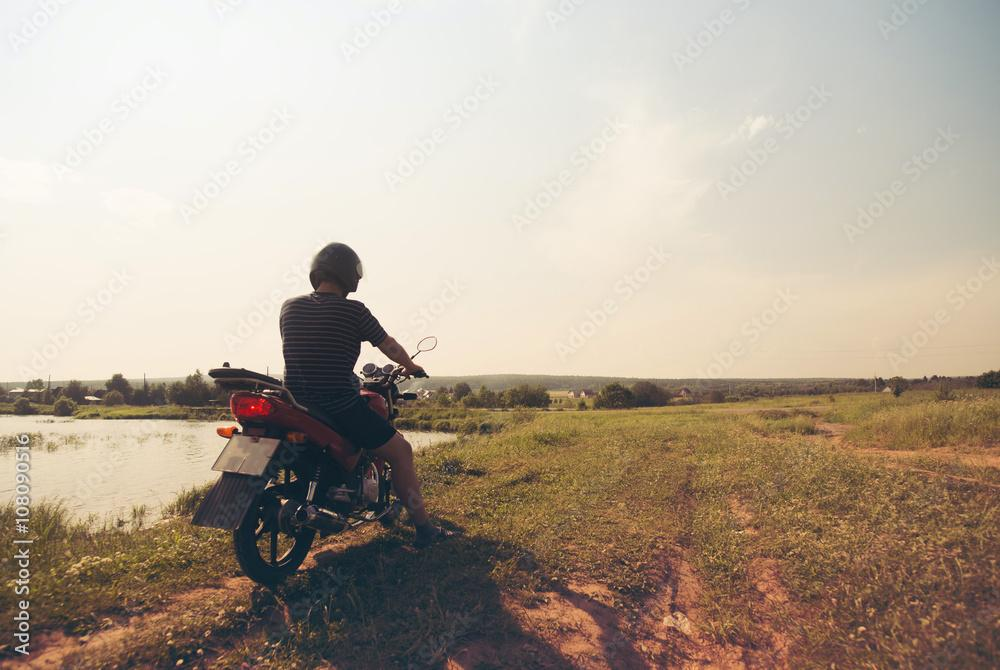helmet: (308, 241, 364, 298)
